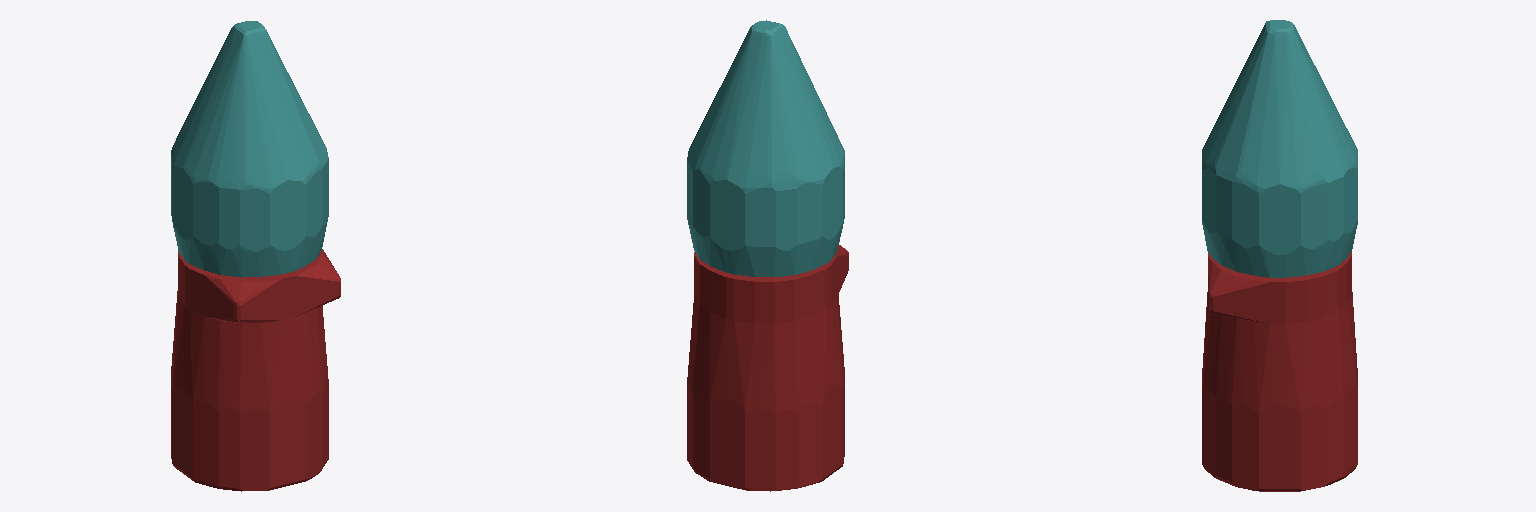
URDF robot description (root):
<robot name="root">
  <link name="bottle_body">
    <inertial>
      <origin xyz="0 0 0" rpy="0 0 0"/>
    </inertial>
    <mass value="1.00E-02"/>
    <visual>
      <origin xyz="0 0 0" rpy="0 0 0"/>
      <geometry>
        <mesh filename="core-bottle-634c59bf37676ca64c3a35cee92bb95b-coacd_convex_piece_2.obj" scale="1.0000E-01 1.0000E-01 1.0000E-01"/>
      </geometry>
      <material name="">
        <color rgba="6.00E-01 2.00E-01 2.00E-01 1"/>
      </material>
    </visual>
    <collision>
      <origin xyz="0 0 0" rpy="0 0 0"/>
      <geometry>
        <mesh filename="core-bottle-634c59bf37676ca64c3a35cee92bb95b-coacd_convex_piece_2.obj" scale="1.0000E-01 1.0000E-01 1.0000E-01"/>
      </geometry>
    </collision>
    <visual>
      <origin xyz="0 0 0" rpy="0 0 0"/>
      <geometry>
        <mesh filename="core-bottle-634c59bf37676ca64c3a35cee92bb95b-coacd_convex_piece_0.obj" scale="1.0000E-01 1.0000E-01 1.0000E-01"/>
      </geometry>
      <material name="">
        <color rgba="6.00E-01 2.00E-01 2.00E-01 1"/>
      </material>
    </visual>
    <collision>
      <origin xyz="0 0 0" rpy="0 0 0"/>
      <geometry>
        <mesh filename="core-bottle-634c59bf37676ca64c3a35cee92bb95b-coacd_convex_piece_0.obj" scale="1.0000E-01 1.0000E-01 1.0000E-01"/>
      </geometry>
    </collision>
  </link>
  <link name="bottle_cap">
    <origin xyz="0 0 0.002" rpy="0 0 0"/>
    <mass value="1.00E-02"/>
    <visual>
      <origin xyz="0 0 0.002" rpy="0 0 0"/>
      <geometry>
        <mesh filename="core-bottle-634c59bf37676ca64c3a35cee92bb95b-coacd_convex_piece_1.obj" scale="1.0000E-01 1.0000E-01 1.0000E-01"/>
      </geometry>
      <material name="">
        <color rgba="3.00E-01 6.00E-01 6.00E-01 1"/>
      </material>
    </visual>
    <collision>
      <origin xyz="0 0 0.002" rpy="0 0 0"/>
      <geometry>
        <mesh filename="core-bottle-634c59bf37676ca64c3a35cee92bb95b-coacd_convex_piece_1.obj" scale="1.0000E-01 1.0000E-01 1.0000E-01"/>
      </geometry>
    </collision>
  </link>
  <joint name="bottle_cap_joint" type="revolute">
    <origin xyz="0 0 0" rpy="0 0 0"/>
    <parent link="bottle_body"/>
    <child link="bottle_cap"/>
    <axis xyz="0 0 1"/>
    <limit lower="0.00" upper="6.28"/>
    <dynamics damping="0.05"/>
  </joint>
</robot>

--- What the picture shows (computed from the rendered views, not written in the file) ---
3 views of the same robot in one strip: view 1: azimuth 30°, elevation 25°; view 2: azimuth 150°, elevation 25°; view 3: azimuth 270°, elevation 25° (orthographic).
Model root with 2 links and 1 joints (1 revolute), rooted at bottle_body, posed every joint at zero.
Visible links, largest first — view 1: bottle_body, bottle_cap; view 2: bottle_body, bottle_cap; view 3: bottle_body, bottle_cap.
Link boxes in pixels (<box>): bottle_body: <box>171,249,340,491</box>; bottle_cap: <box>171,21,328,277</box>; bottle_body: <box>687,245,848,491</box>; bottle_cap: <box>687,20,844,277</box>; bottle_body: <box>1202,251,1357,491</box>; bottle_cap: <box>1202,20,1357,277</box>.
Size in the robot's own frame: 0.0609 by 0.0609 by 0.1887 metres.
Meshes: 3 distinct files referenced, 3 mesh visuals loaded (3 OBJ).